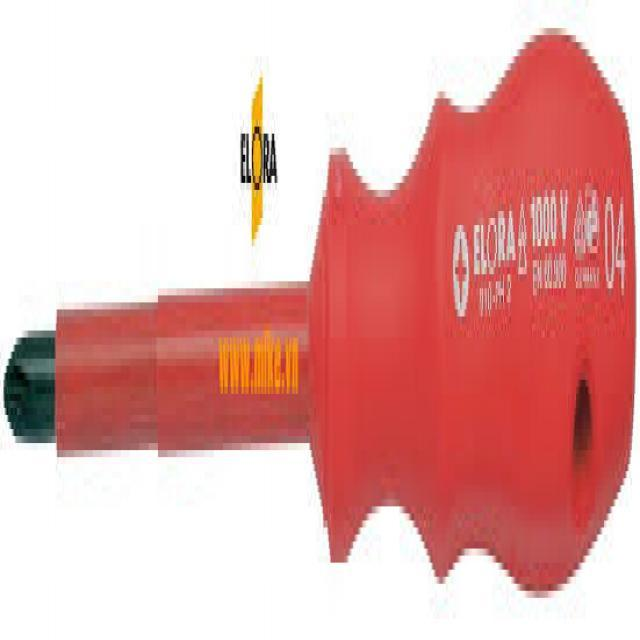screwdriver: (1, 24, 638, 616)
